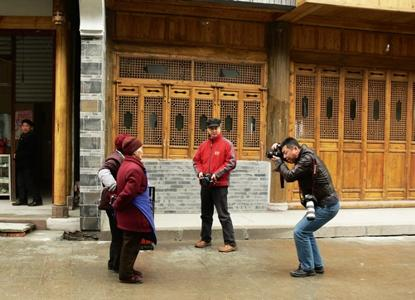person: (271, 138, 341, 278)
